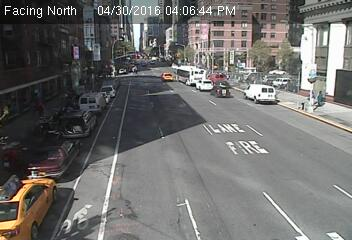neg: (215, 87, 243, 124)
pos: (313, 87, 327, 105)
